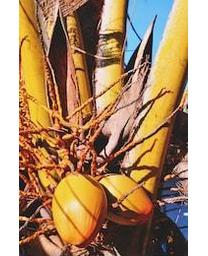coconut: (52, 171, 108, 246), (94, 173, 153, 228)
